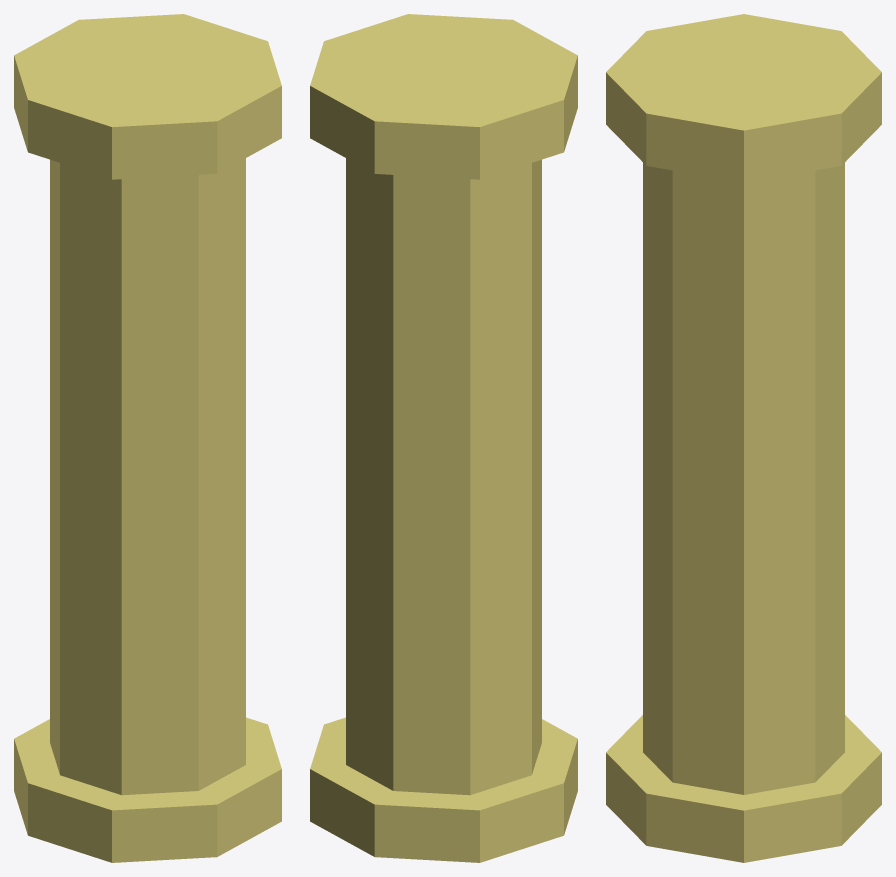
The model's file is Pillar.fbx.
3 views of the same model, side by side, from view 1: azimuth 30°, elevation 25°; view 2: azimuth 150°, elevation 25°; view 3: azimuth 270°, elevation 25° (orthographic).
Parts seen in each view (by area): view 1: pCylinder1; view 2: pCylinder1; view 3: pCylinder1.
Boxes of the visible parts, x1,y1,x2,y2 form: pCylinder1: (14,14,281,862); pCylinder1: (310,14,577,862); pCylinder1: (606,14,881,862).
Size of the model in its own units: 1.37 by 4 by 1.37.
